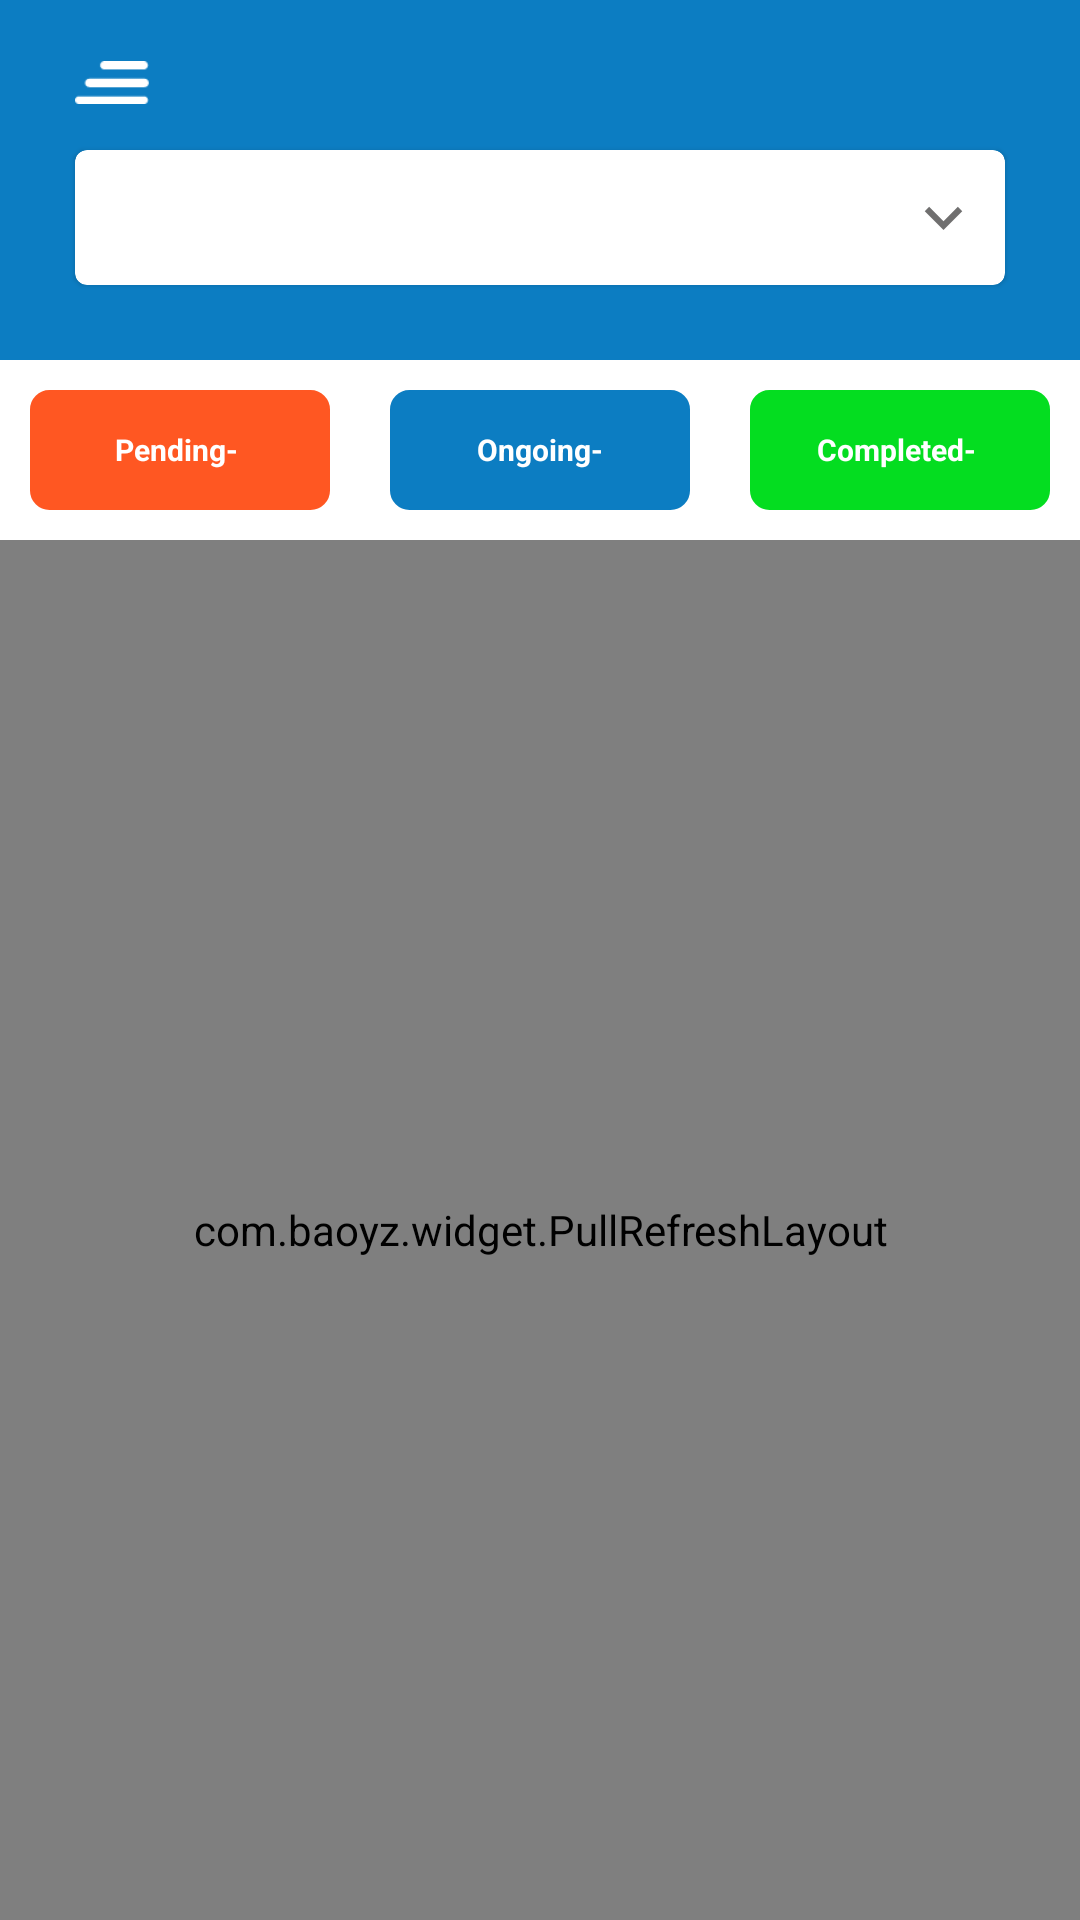

Where icons sit on this 1080px×1920px app screen, as (x1, y1, x2, y2):
arrow down: (925, 207, 962, 230)
menu: (75, 61, 149, 104)
